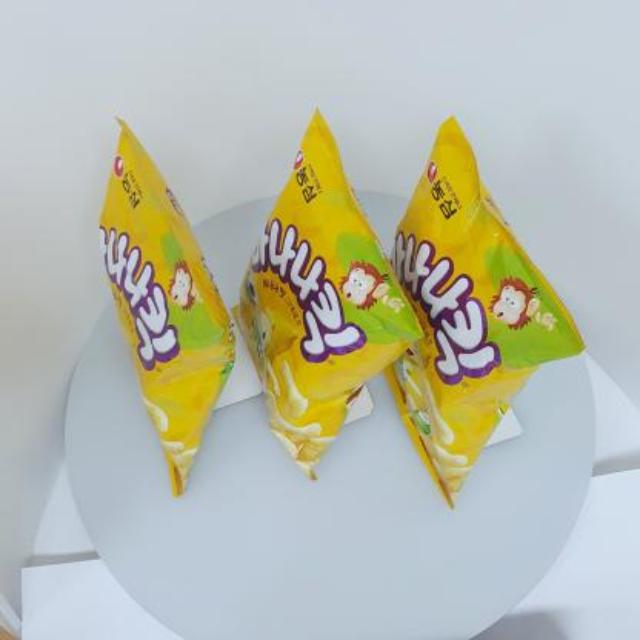snack_bag: (90, 105, 590, 523)
